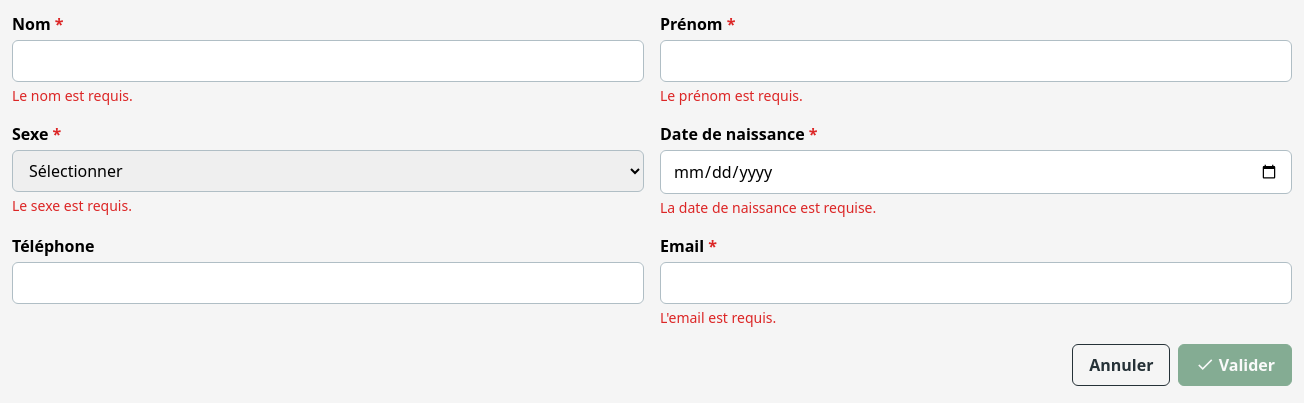
it: PatientForm.vue - Validation › Email › doit afficher une erreur si l'email ne contient pas d'arobase
Type "toto.example.com" into the field with id "email". click: coordinates (976, 283)
box: [660,262,1292,304]
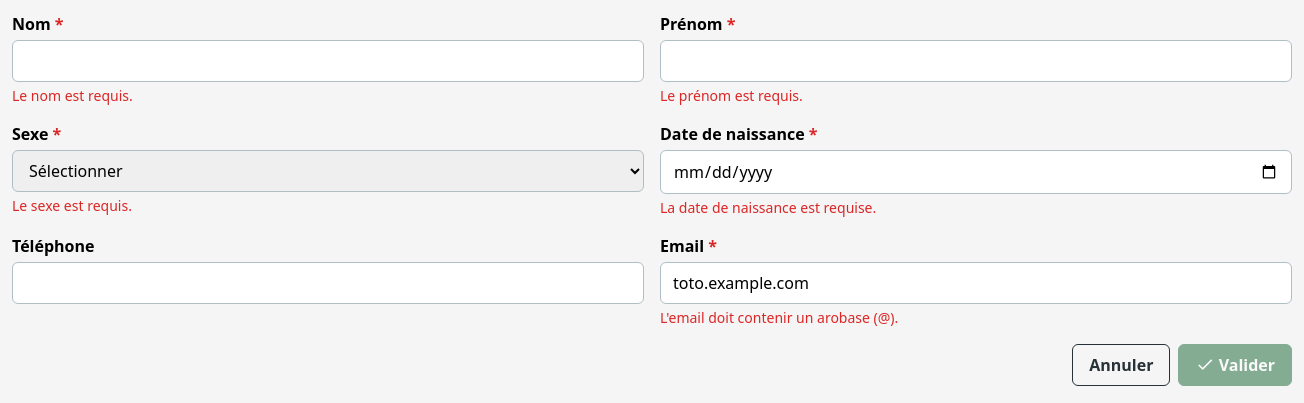
Now the text "L'email doit contenir un arobase (@)." is shown, box [660,308,898,327]
